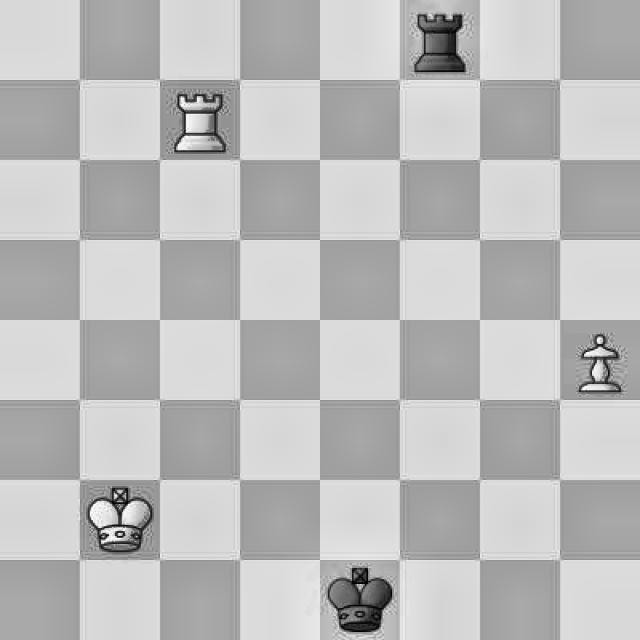black king: (326, 559, 388, 639)
black rook: (411, 5, 468, 76)
white king: (86, 485, 155, 548)
white pawn: (575, 324, 634, 396)
white rook: (162, 84, 239, 168)
